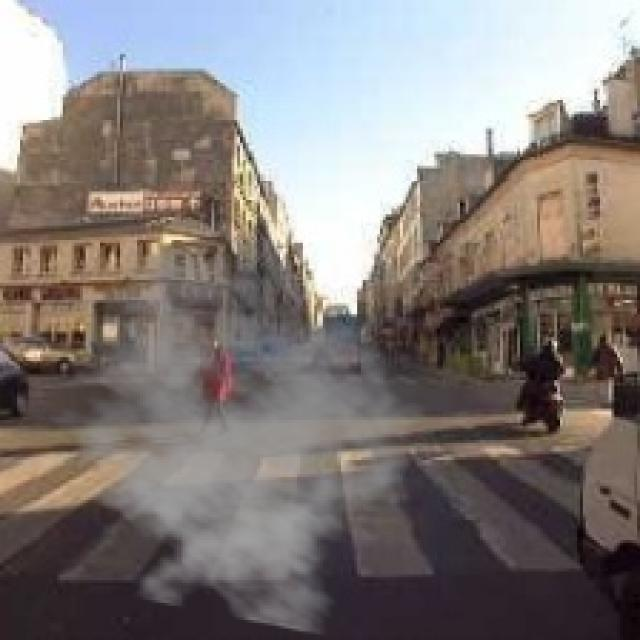Smoke: (31, 245, 432, 638)
